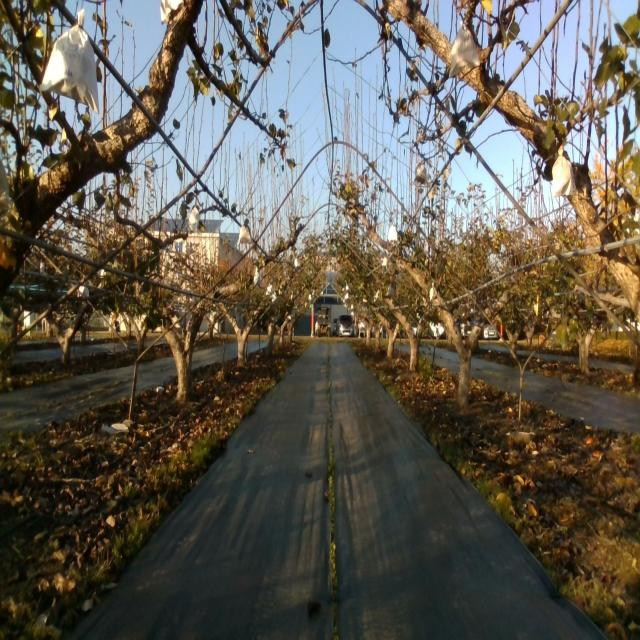pearbags: (39, 10, 101, 114), (448, 19, 479, 84), (552, 144, 578, 196), (188, 207, 200, 233), (415, 159, 427, 184), (238, 223, 252, 244)
